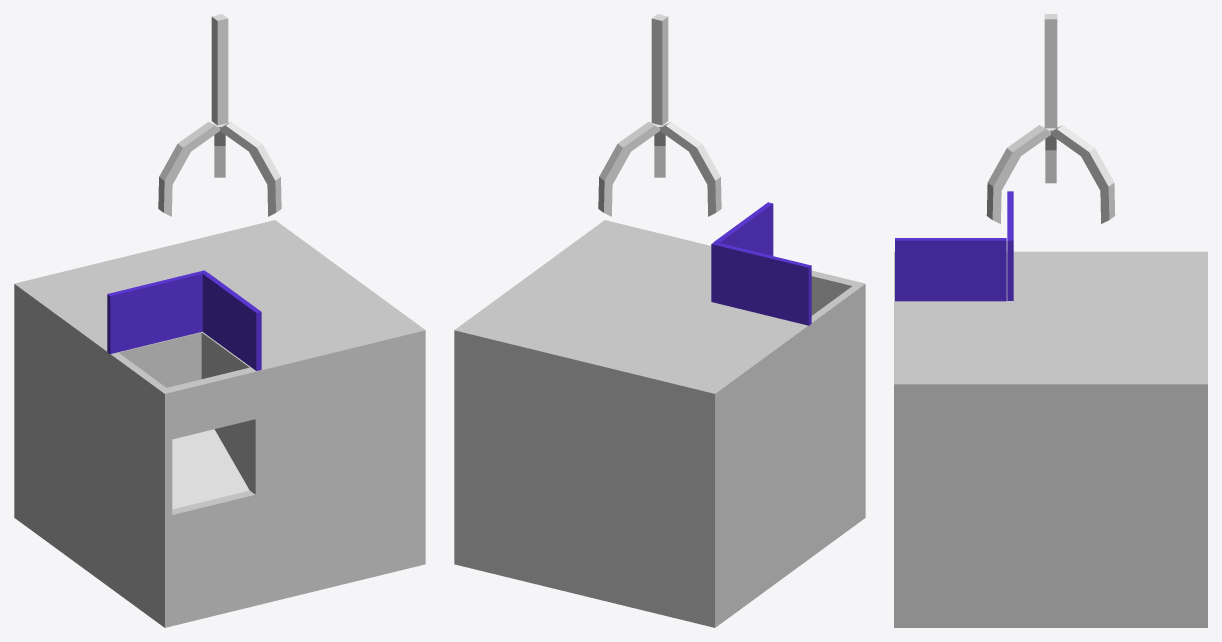
3 views of the same model, side by side, from view 1: azimuth 30°, elevation 25°; view 2: azimuth 150°, elevation 25°; view 3: azimuth 270°, elevation 25° (orthographic). The views are drawn at different scales.
Visible parts, largest first — view 1: floor, glassB, glassA, Cube.007, clawA, clawB, clawC; view 2: floor, glassB, Cube.007, glassA, clawA, clawC, clawB; view 3: floor, glassA, clawB, clawC, Cube.007, glassB, clawA.
Boxes of the visible parts, bbox=[...] form: floor: bbox=[14, 220, 425, 627]; glassB: bbox=[107, 270, 207, 354]; glassA: bbox=[202, 272, 261, 370]; Cube.007: bbox=[211, 14, 228, 125]; clawA: bbox=[158, 121, 219, 216]; clawB: bbox=[220, 121, 281, 216]; clawC: bbox=[214, 123, 225, 177]; floor: bbox=[454, 220, 865, 627]; glassB: bbox=[711, 242, 811, 325]; Cube.007: bbox=[651, 14, 668, 125]; glassA: bbox=[714, 202, 773, 255]; clawA: bbox=[660, 121, 721, 216]; clawC: bbox=[598, 121, 659, 216]; clawB: bbox=[654, 123, 665, 177]; floor: bbox=[894, 251, 1207, 627]; glassA: bbox=[895, 238, 1006, 301]; clawB: bbox=[986, 125, 1050, 223]; clawC: bbox=[1051, 125, 1115, 223]; Cube.007: bbox=[1044, 14, 1057, 128]; glassB: bbox=[1007, 191, 1013, 300]; clawA: bbox=[1045, 128, 1056, 183].
Size of the model in its own units: 1 by 1.92 by 1.
